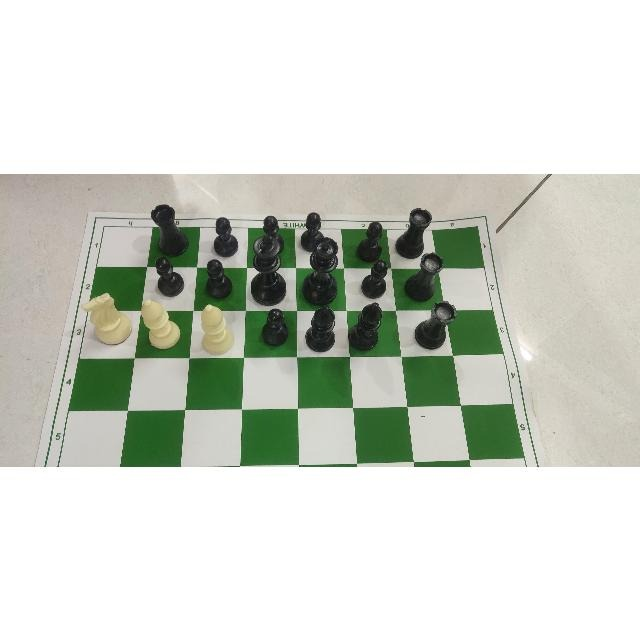black-bishop: (349, 300, 383, 350), (305, 303, 337, 351)
black-king: (250, 231, 288, 304)
black-pawn: (155, 256, 185, 296), (360, 259, 389, 299), (261, 307, 288, 346), (357, 220, 383, 260), (206, 259, 232, 298), (214, 216, 238, 256), (301, 211, 322, 251), (264, 214, 284, 249)
black-queen: (302, 236, 338, 304)
black-rook: (414, 298, 458, 347), (394, 206, 433, 257), (404, 250, 444, 299), (151, 203, 188, 255)
white-bishop: (140, 296, 180, 347), (199, 302, 235, 353)
white-knight: (81, 292, 133, 344)
